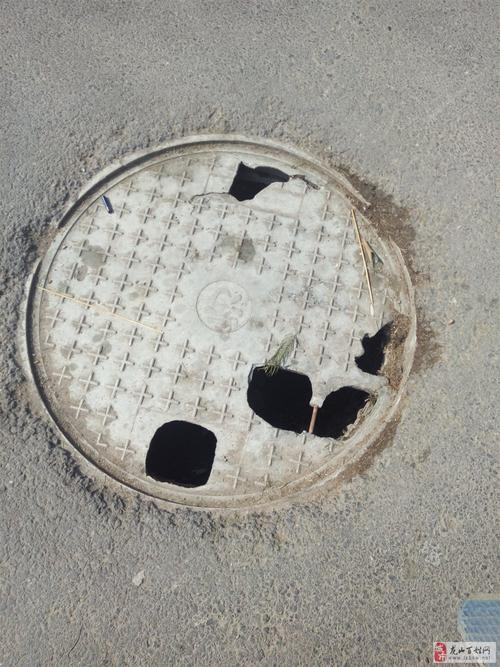broke: (17, 122, 447, 525)
